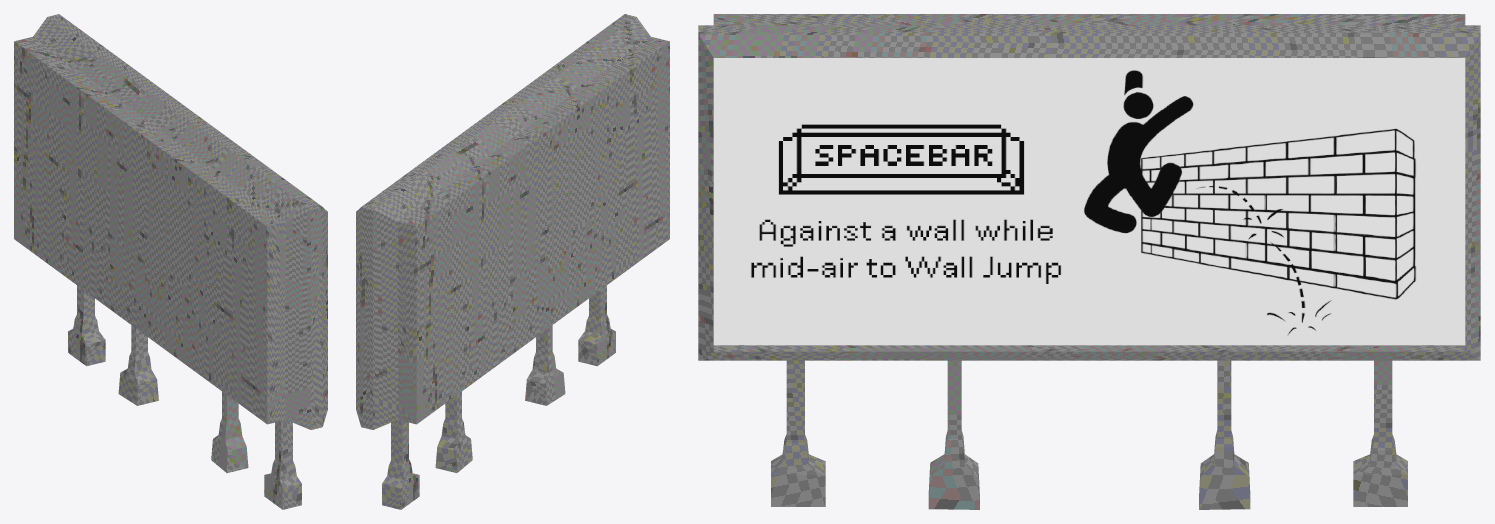
Rendered from walljumpbillboard.glb.
3 views of the same model, side by side, from view 1: azimuth 30°, elevation 25°; view 2: azimuth 150°, elevation 25°; view 3: azimuth 270°, elevation 25° (orthographic). The views are drawn at different scales.
Visible parts, largest first — view 1: walljump_board; view 2: walljump_board; view 3: walljump_board.
Boxes of the visible parts, x1,y1,x2,y2 form: walljump_board: (14, 14, 327, 509); walljump_board: (356, 14, 669, 509); walljump_board: (698, 14, 1480, 509).
Bounding box in the file's own units: 2.1 × 10.56 × 15.84.
Materials: 2 (2 with a texture image).
